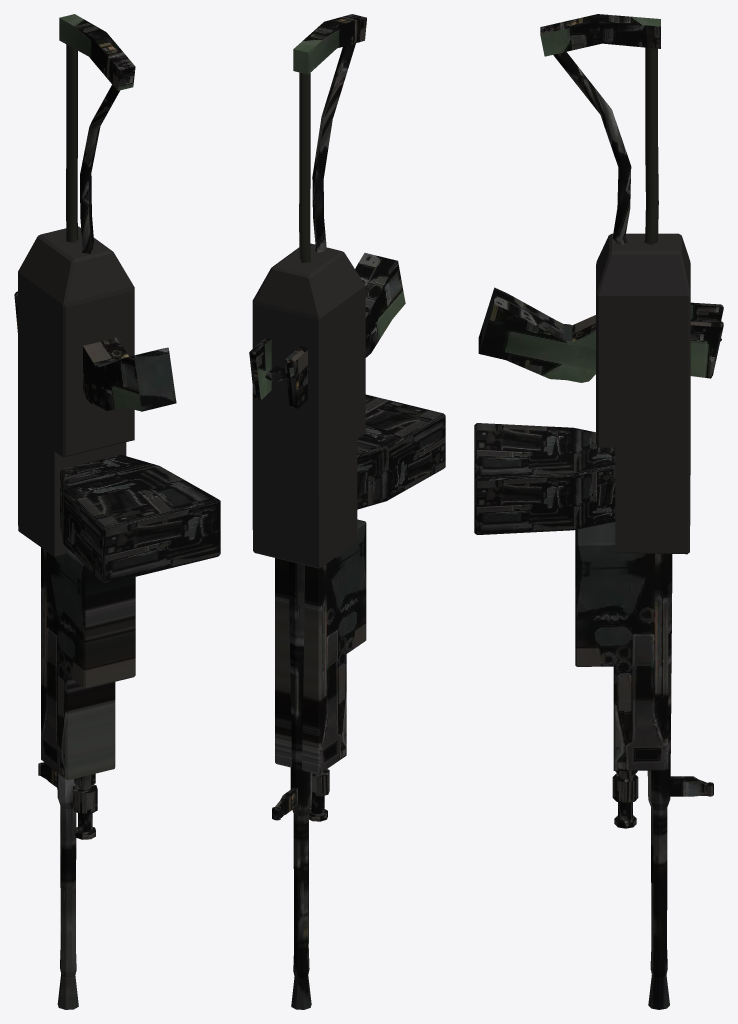
3 views of the same model, side by side, from view 1: azimuth 30°, elevation 25°; view 2: azimuth 150°, elevation 25°; view 3: azimuth 270°, elevation 25° (orthographic). The views are drawn at different scales.
Visible parts, largest first — view 1: arma, cargador; view 2: arma, cargador; view 3: arma, cargador.
Boxes of the visible parts, x1,y1,x2,y2 form: arma: (14, 14, 176, 1009); cargador: (60, 454, 220, 584); arma: (249, 14, 405, 1009); cargador: (357, 394, 445, 509); arma: (478, 14, 723, 1009); cargador: (474, 423, 615, 534).
Size of the model in its own units: 0.3551 by 0.653 by 2.85.
